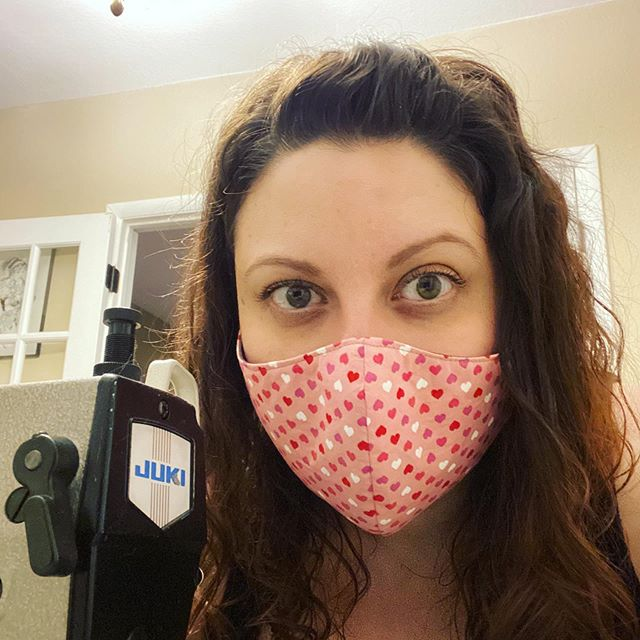homemade: (230, 323, 530, 538)
